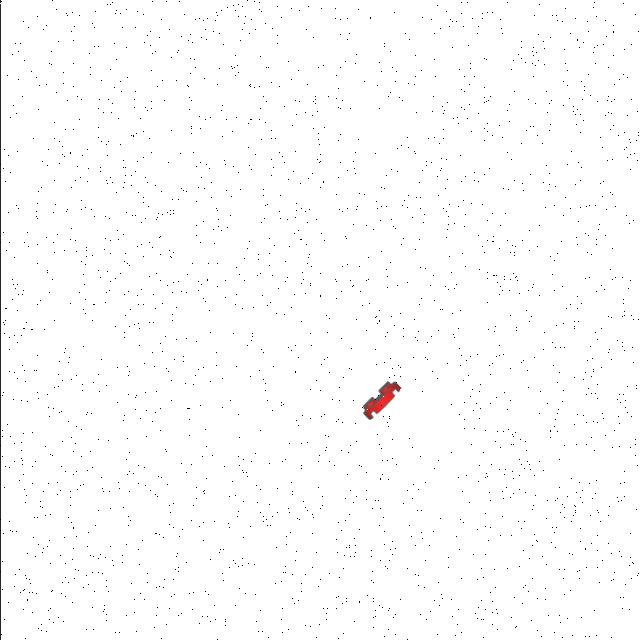4032a: (357, 378, 405, 424)
